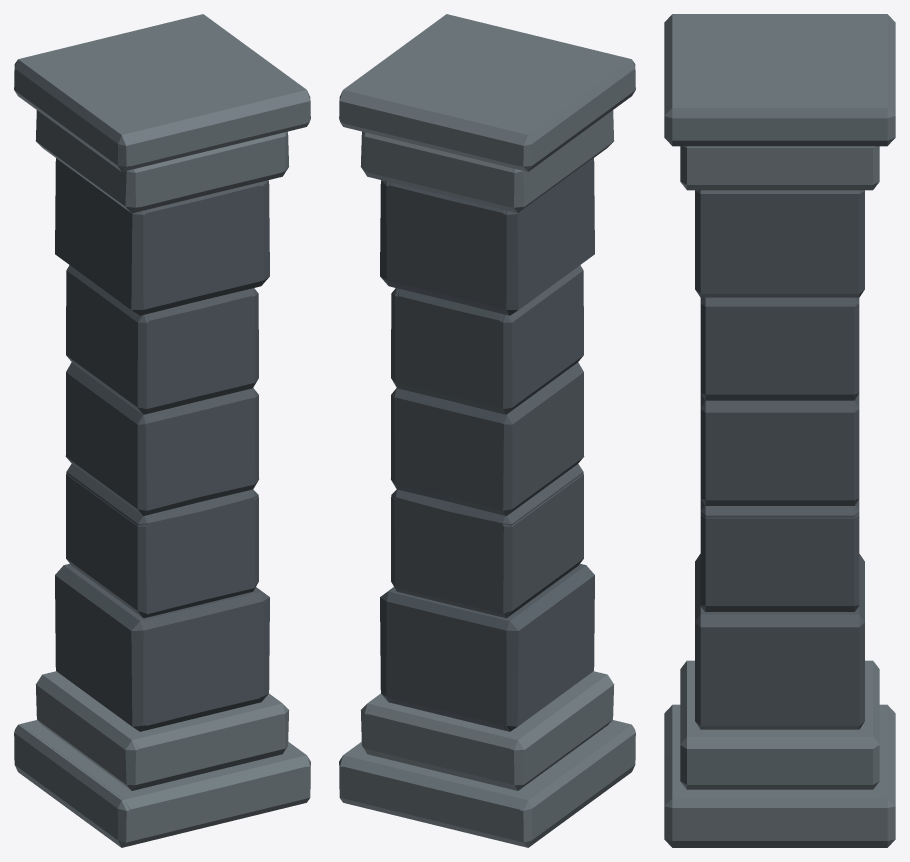
File: Pillar_Standalone.fbx
3 views of the same model, side by side, from view 1: azimuth 30°, elevation 25°; view 2: azimuth 150°, elevation 25°; view 3: azimuth 270°, elevation 25° (orthographic). The views are drawn at different scales.
Visible parts, largest first — view 1: Pillar_Standalone; view 2: Pillar_Standalone; view 3: Pillar_Standalone.
Boxes of the visible parts, bbox=[...] form: Pillar_Standalone: bbox=[14, 14, 310, 847]; Pillar_Standalone: bbox=[339, 14, 635, 847]; Pillar_Standalone: bbox=[664, 14, 895, 847].
Size of the model in its own units: 57.56 by 203 by 57.56.
